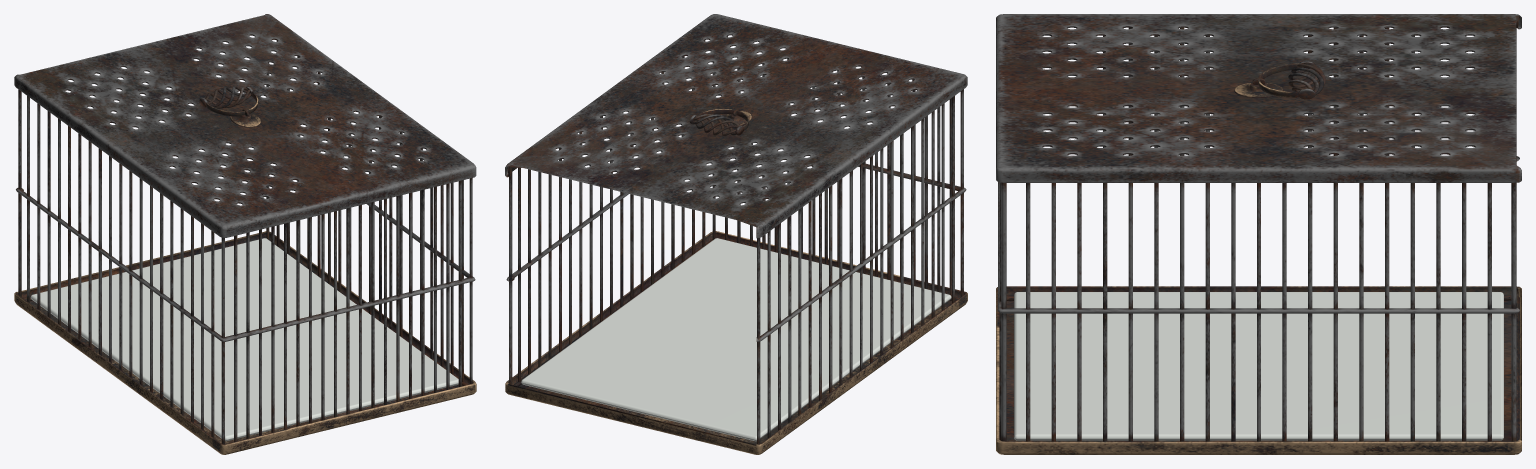
The model's file is cage_shell.glb.
The picture shows the model from 3 angles, left to right: view 1: azimuth 30°, elevation 25°; view 2: azimuth 150°, elevation 25°; view 3: azimuth 270°, elevation 25°; orthographic projection. The views are drawn at different scales.
Parts seen in each view (by area): view 1: RetainedCageShell, RemovableWhiteTray; view 2: RetainedCageShell, RemovableWhiteTray; view 3: RetainedCageShell, RemovableWhiteTray.
Boxes of the visible parts, <box> form: RetainedCageShell: <box>14,14,476,454</box>; RemovableWhiteTray: <box>30,238,458,441</box>; RetainedCageShell: <box>505,14,967,454</box>; RemovableWhiteTray: <box>521,238,951,441</box>; RetainedCageShell: <box>996,14,1521,454</box>; RemovableWhiteTray: <box>1014,292,1503,440</box>.
Bounding box in the file's own units: 1.14 × 1.05 × 1.62.
2 materials, 1 textured.
